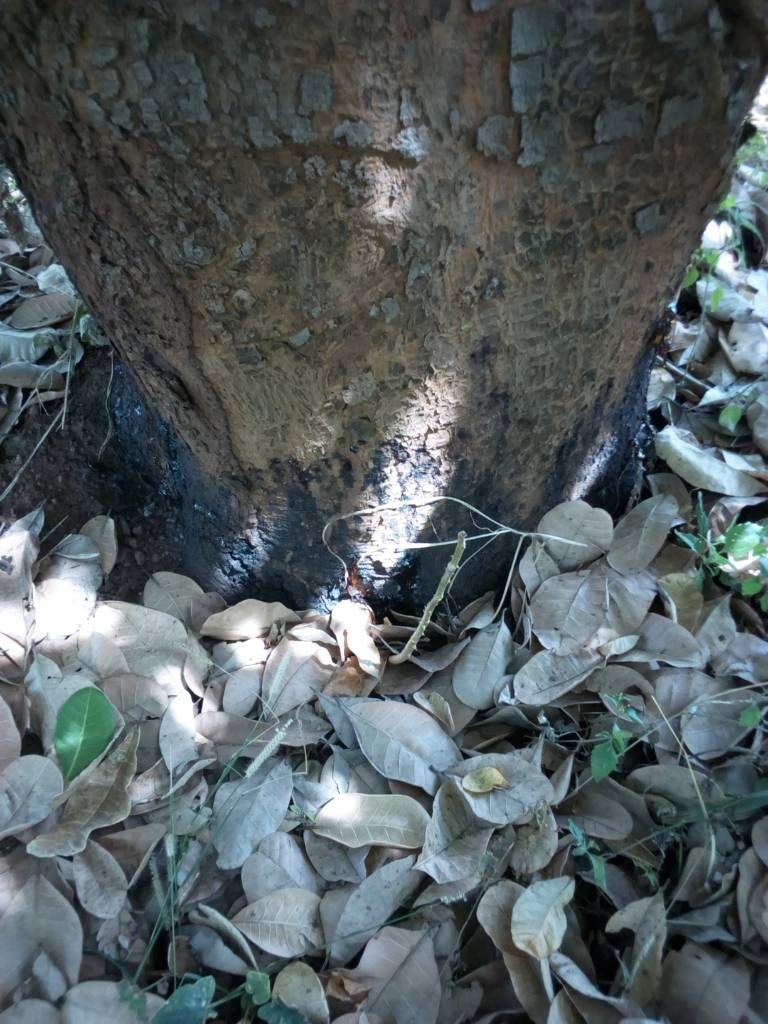Gommose: (96, 402, 668, 594)
